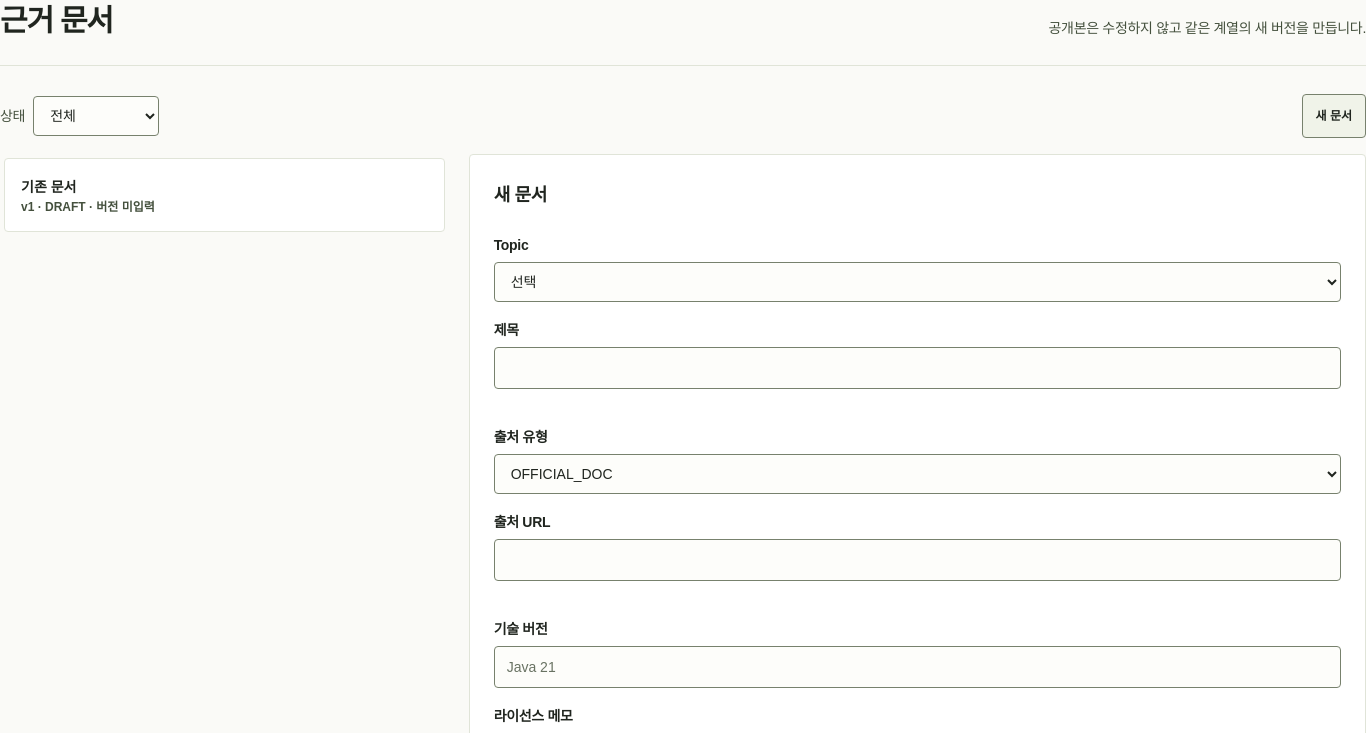
Test case: 관리자 근거 문서 화면 › 검수 성공 뒤 목록 갱신이 저장된 문서와 입력을 초기화하지 않는다
This screenshot has width=1366, height=733.
Click the button "기존 문서 v1 · DRAFT · 버전 미입력" at (49, 187), box [5,159,444,231]
(page scrolled)
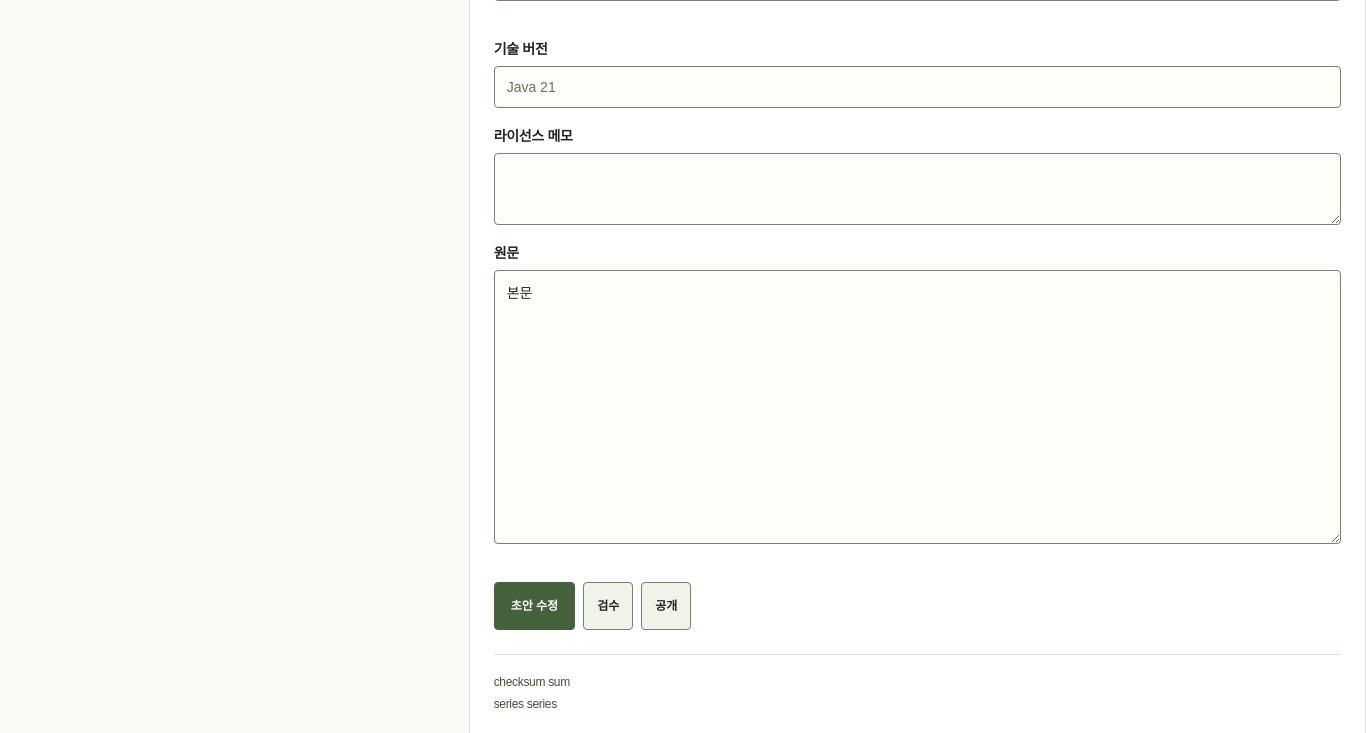
Click the button "검수" at (608, 606), box [583,582,633,630]
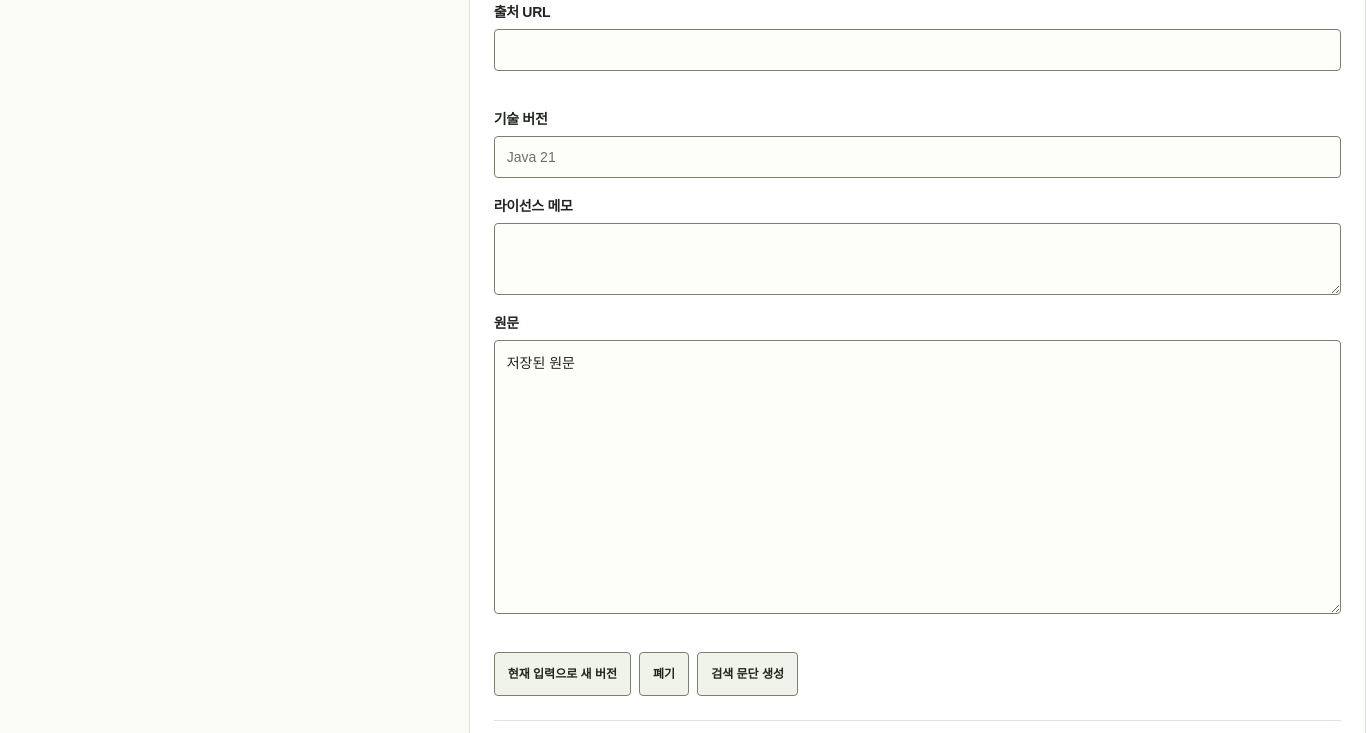
Expected: the text box labelled "원문" holds "저장된 원문", [494,340,1341,614]
